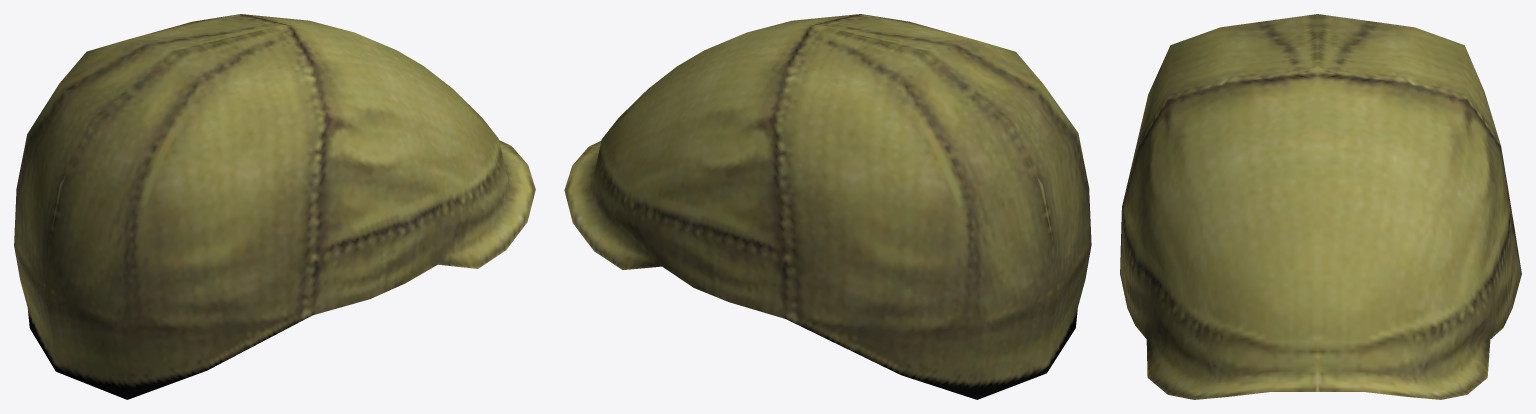
File: hat_0450027.FBX
The picture shows the model from 3 angles, left to right: view 1: azimuth 30°, elevation 25°; view 2: azimuth 150°, elevation 25°; view 3: azimuth 270°, elevation 25°; orthographic projection. The views are drawn at different scales.
Visible parts, largest first — view 1: hat_0450027; view 2: hat_0450027; view 3: hat_0450027.
Part boxes in pixels (x1,y1,x2,y2): hat_0450027: [14, 14, 535, 399]; hat_0450027: [564, 14, 1091, 399]; hat_0450027: [1120, 14, 1521, 399].
Bounding box in the file's own units: 29.76 × 17.73 × 19.88.
